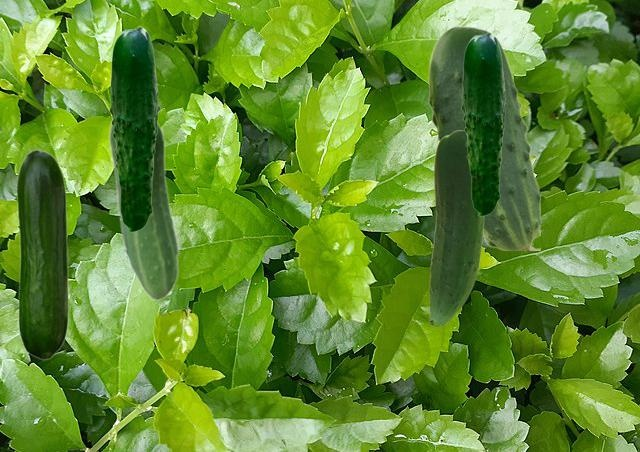cucumber: (428, 25, 539, 249), (108, 118, 179, 300), (16, 149, 68, 359), (429, 130, 484, 326), (109, 26, 159, 231), (461, 32, 506, 215)
